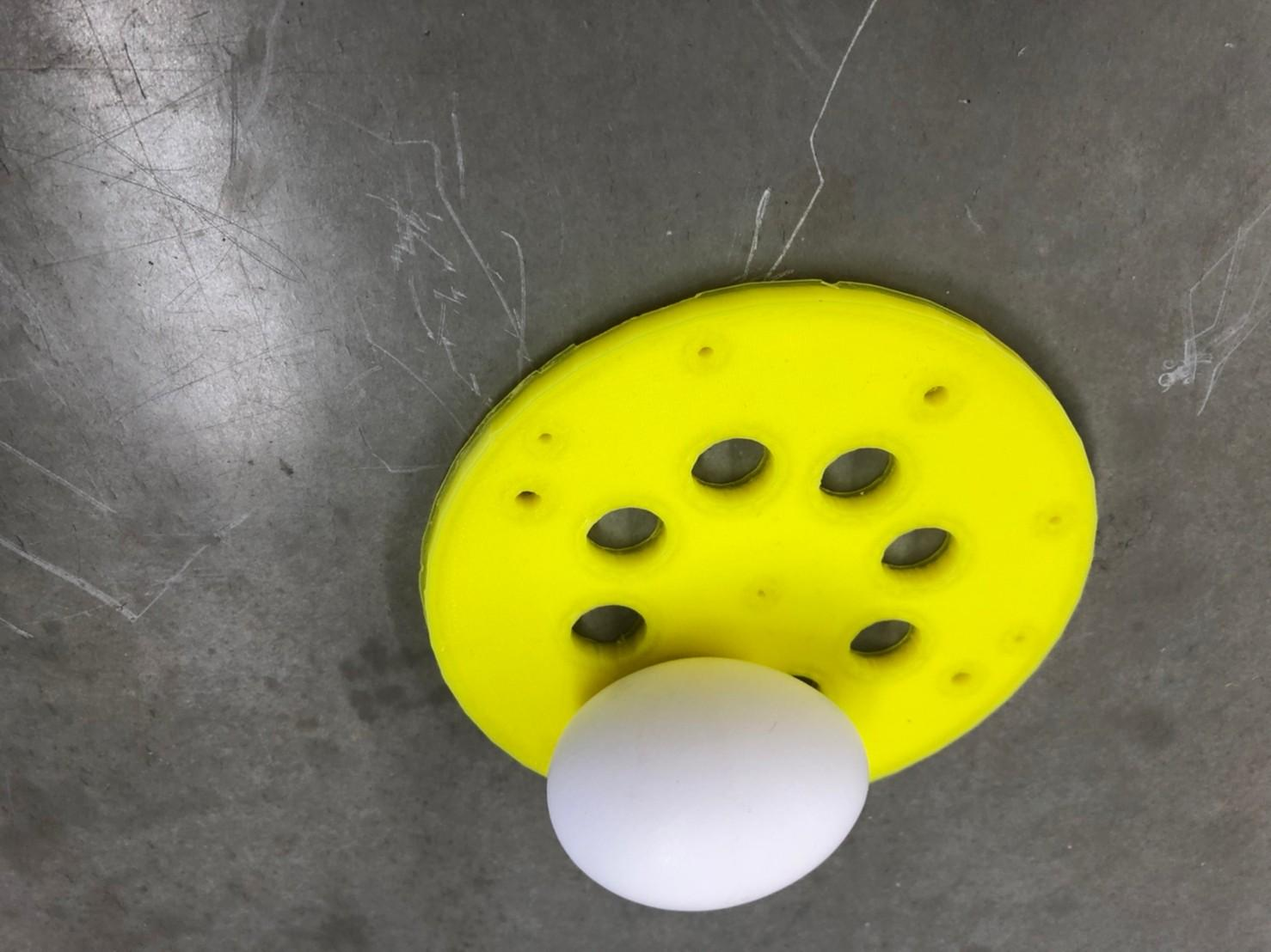egg: (540, 656, 868, 918)
